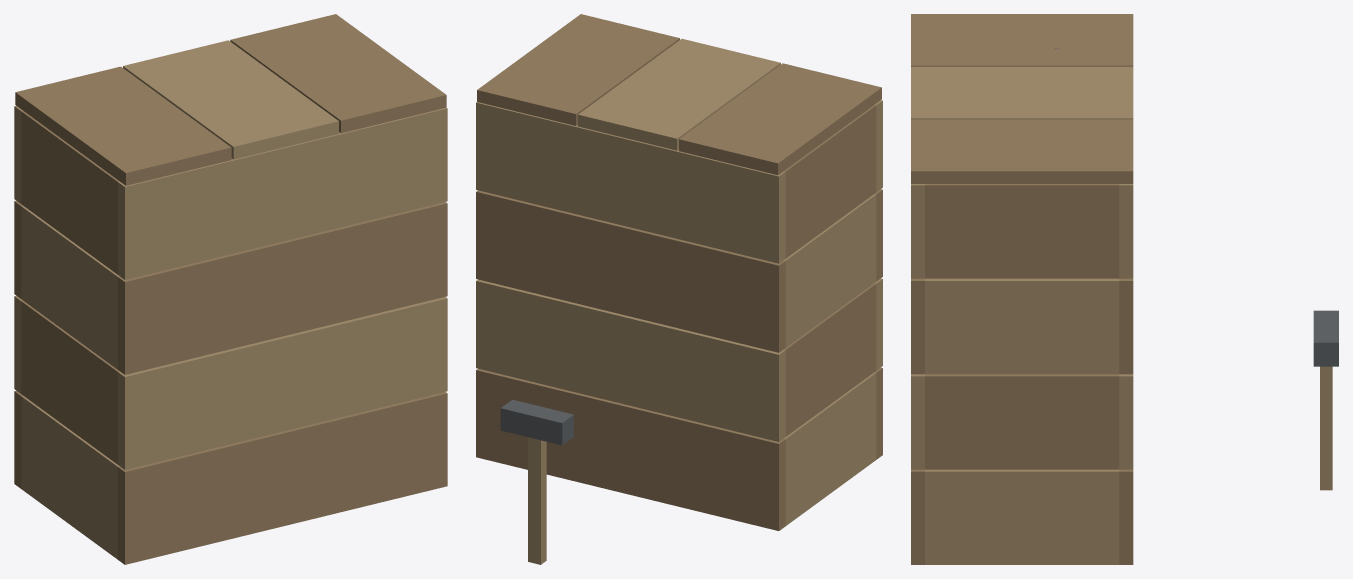
Rendered from work_1812.glb.
The picture shows the model from 3 angles, left to right: view 1: azimuth 30°, elevation 25°; view 2: azimuth 150°, elevation 25°; view 3: azimuth 270°, elevation 25°; orthographic projection. The views are drawn at different scales.
Parts seen in each view (by area): view 1: work_chest_weathered_wood, work_chest_end_grain; view 2: work_chest_weathered_wood, work_chest_end_grain, work_hammer_forged_iron, work_hammer_end_grain; view 3: work_chest_weathered_wood, work_chest_end_grain, work_hammer_end_grain, work_hammer_forged_iron.
Part boxes in pixels (box(x1,y1,x2,y2)): work_chest_weathered_wood: box(14, 14, 447, 564); work_chest_end_grain: box(14, 40, 447, 559); work_chest_weathered_wood: box(476, 14, 882, 530); work_chest_end_grain: box(476, 38, 882, 525); work_hammer_forged_iron: box(500, 399, 573, 445); work_hammer_end_grain: box(528, 437, 546, 564); work_chest_weathered_wood: box(911, 14, 1133, 564); work_chest_end_grain: box(911, 66, 1133, 564); work_hammer_end_grain: box(1320, 366, 1332, 490); work_hammer_forged_iron: box(1313, 310, 1338, 366).
Bounding box in the file's own units: 0.64 × 0.744 × 0.7315.
